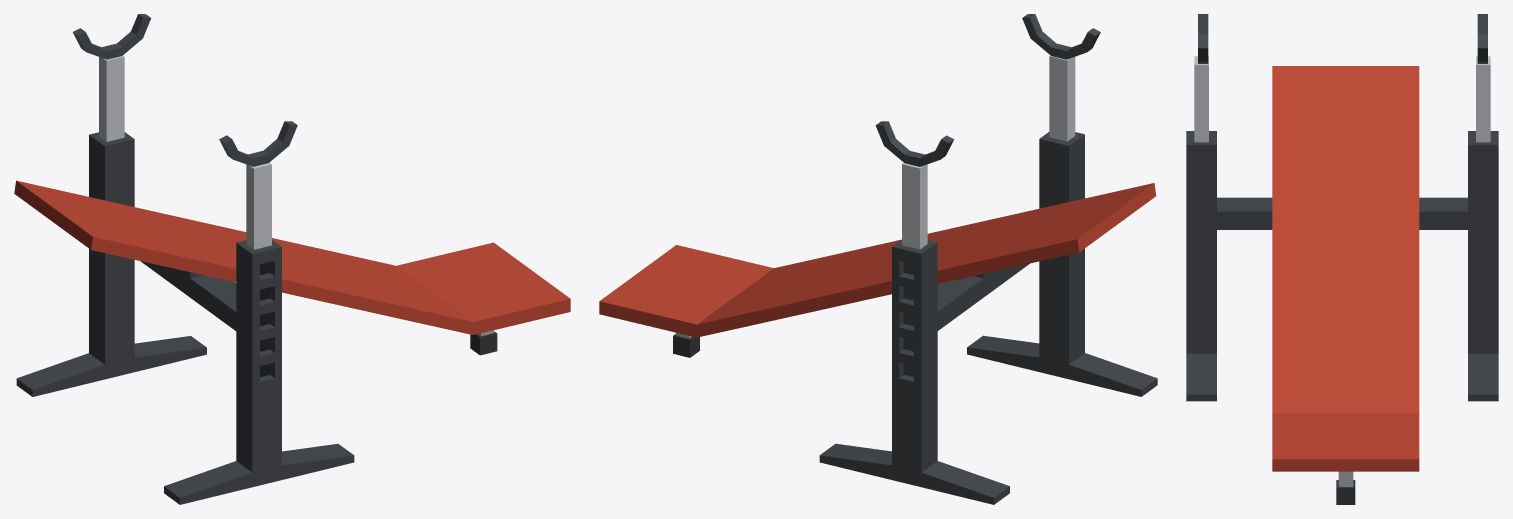
Rendered from Bench.fbx.
3 renders of one model, left to right at view 1: azimuth 30°, elevation 25°; view 2: azimuth 150°, elevation 25°; view 3: azimuth 270°, elevation 25°, orthographic. The views are drawn at different scales.
Visible parts, largest first — view 1: Cube.001; view 2: Cube.001; view 3: Cube.001.
Boxes of the visible parts, x1=… form: Cube.001: x1=14, y1=14, x2=570, y2=504; Cube.001: x1=599, y1=14, x2=1157, y2=504; Cube.001: x1=1186, y1=14, x2=1498, y2=504.
Bounding box in the file's own units: 605 × 419 × 357.
Materials: 1 (1 with a texture image).
